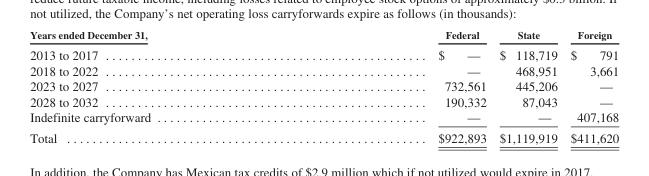table: (29, 28, 618, 144)
table column: (29, 28, 293, 144), (293, 28, 492, 144), (492, 28, 563, 144), (563, 28, 618, 144)
table column header: (29, 28, 618, 44)
table row: (29, 44, 618, 62), (29, 108, 618, 126), (29, 126, 618, 144), (29, 28, 618, 44), (29, 77, 618, 93), (29, 62, 618, 77), (29, 93, 618, 108)
